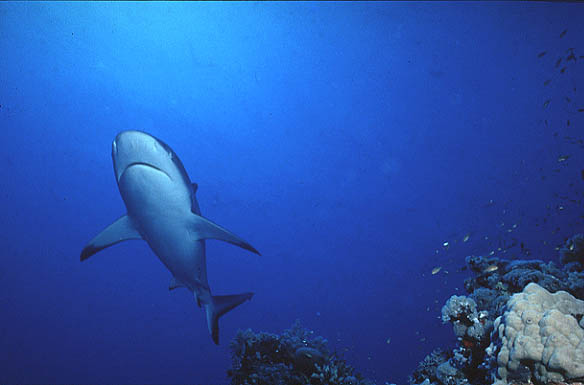Carcharhinus_amblyrhynchos: (79, 122, 264, 344)
